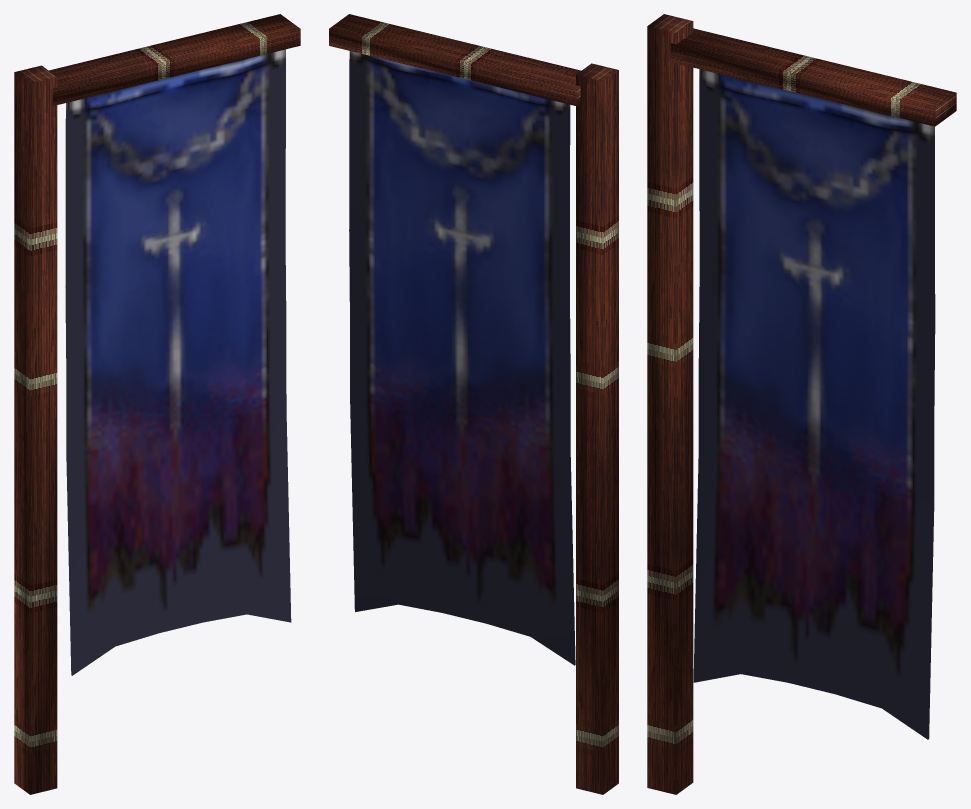
File: STEELBANN_ACTORDEF.fbx
3 renders of one model, left to right at view 1: azimuth 30°, elevation 25°; view 2: azimuth 150°, elevation 25°; view 3: azimuth 330°, elevation 25°, orthographic. The views are drawn at different scales.
Visible parts, largest first — view 1: U3DMesh; view 2: U3DMesh; view 3: U3DMesh.
Part boxes in pixels (x1,y1,x2,y2): U3DMesh: [14, 14, 300, 794]; U3DMesh: [329, 14, 618, 794]; U3DMesh: [647, 14, 956, 794].
Size of the model in its own units: 9.92 by 25 by 1.28.
